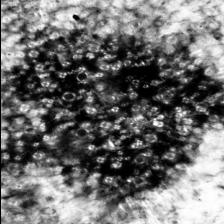Potentially Malignant Skin Tumors: (10, 33, 224, 206)
